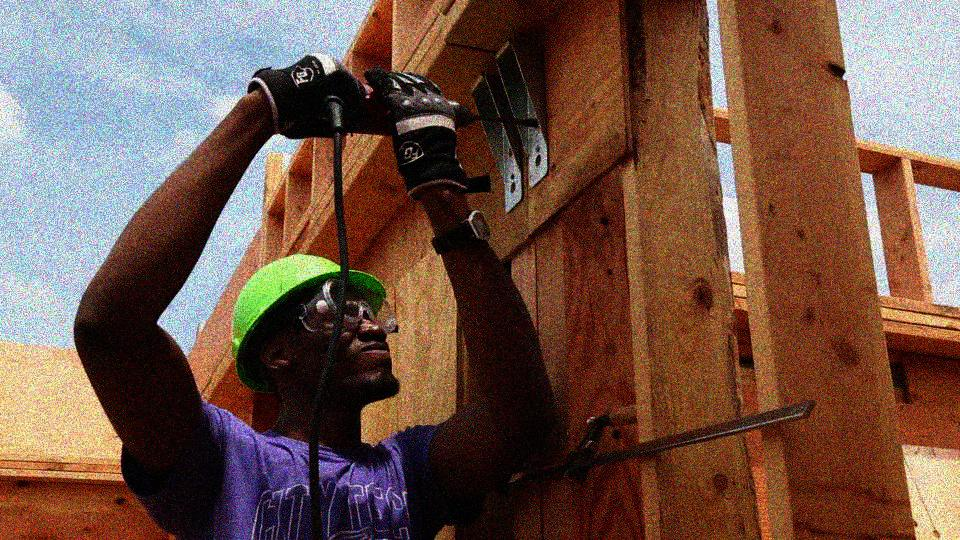helmet: (228, 252, 406, 402)
